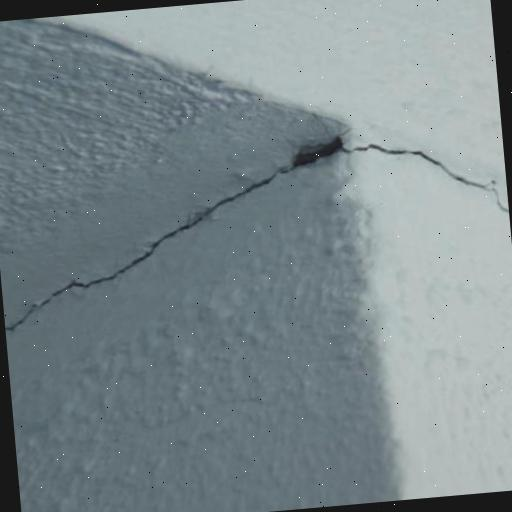spalling: (5, 133, 505, 339)
